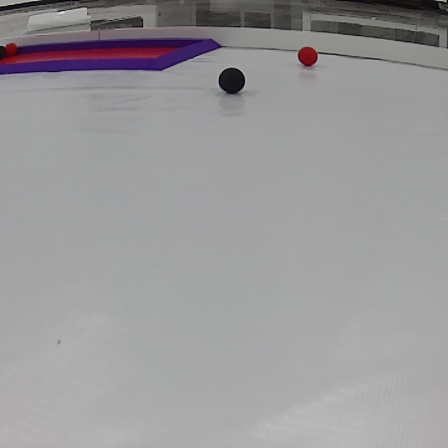black: (215, 63, 248, 97), (0, 44, 8, 59)
red: (292, 42, 320, 67), (6, 40, 21, 55)
red_aim: (2, 34, 221, 75)
